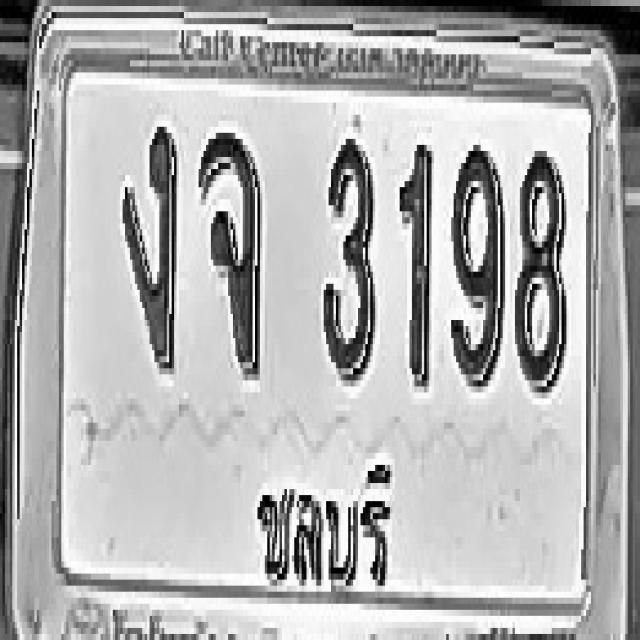1: (397, 139, 432, 386)
16NgorNgu: (121, 121, 176, 368)
17ChorChan: (198, 130, 262, 377)
3: (321, 133, 375, 380)
8: (515, 145, 566, 392)
9: (450, 142, 504, 389)
Chonburi: (248, 438, 401, 607)
